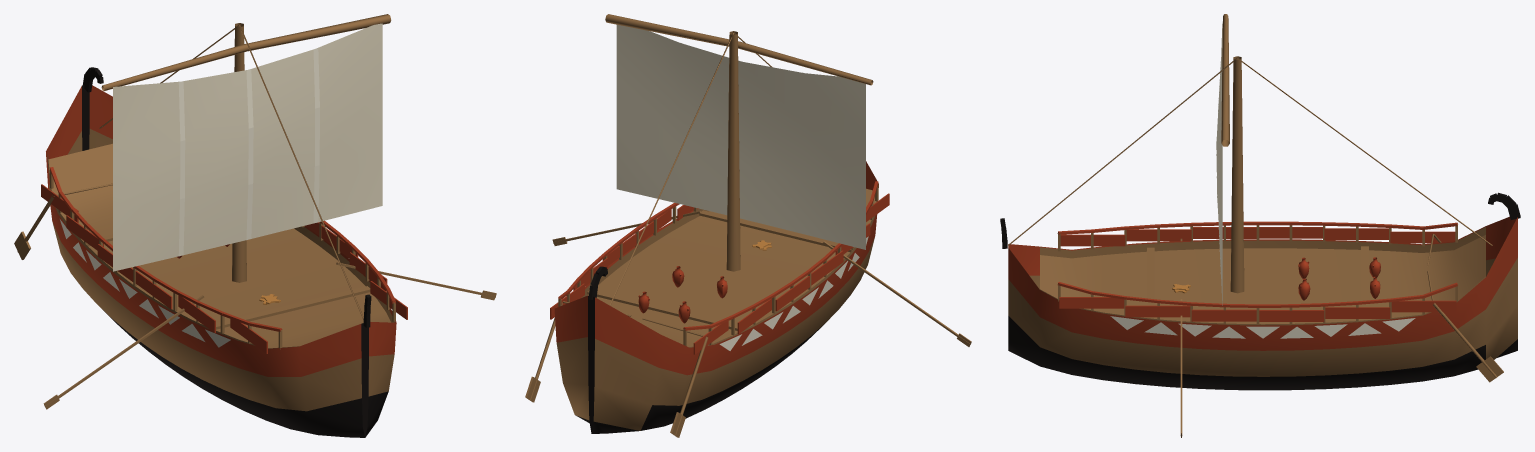
The model's file is ship_merchant_blockout_LOD1.obj.
The picture shows the model from 3 angles, left to right: view 1: azimuth 30°, elevation 25°; view 2: azimuth 150°, elevation 25°; view 3: azimuth 270°, elevation 25°; orthographic projection. The views are drawn at different scales.
Parts seen in each view (by area): view 1: ship_merchant_blockout_LOD1; view 2: ship_merchant_blockout_LOD1; view 3: ship_merchant_blockout_LOD1.
Part boxes in pixels (box(x1,y1,x2,y2)): ship_merchant_blockout_LOD1: box(14, 14, 496, 437); ship_merchant_blockout_LOD1: box(525, 14, 971, 437); ship_merchant_blockout_LOD1: box(1000, 14, 1520, 437).
Size of the model in its own units: 22.17 by 16.14 by 24.21.
